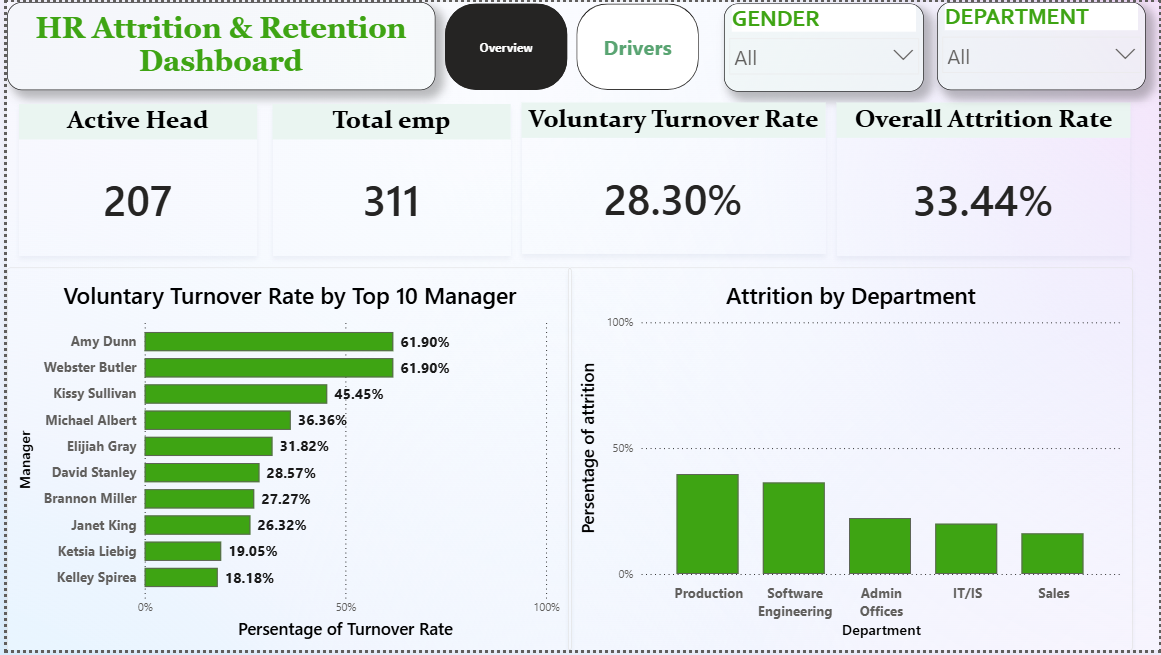

The dashboard page shown, as its layout file describes it:
{"tool":"powerbi","page":{"name":"Overview","canvas":[1280,720],"ordinal":0},"visuals":[{"type":"textbox","box":[0,0,476,98],"z":0},{"type":"slicer","fields":{"Values":["HR.Sex"]},"box":[796,2,222,98],"z":1000},{"type":"cardVisual","title":"Overall Attrition Rate","fields":{"Data":["HR.Overall_Attrition_Rate"]},"box":[922.4,111.1,326.9,170.5],"z":3000},{"type":"cardVisual","title":"Total emp","fields":{"Data":["CountNonNull(HR.EmpID)"]},"box":[295.6,112.6,264.3,168.9],"z":4000},{"type":"cardVisual","title":" Voluntary Turnover Rate","fields":{"Data":["HR.Voluntary_Turnover_Rate"]},"box":[572.1,111.1,337.9,168.9],"z":5000},{"type":"slicer","fields":{"Values":["HR.Department"]},"box":[1034,0,232,98],"z":5001},{"type":"cardVisual","title":"Active Head","fields":{"Data":["HR.Active_Headcount"]},"box":[12.5,112.6,264.3,168.9],"z":5002},{"type":"clusteredColumnChart","title":"Attrition by Department","fields":{"Category":["HR.Department"],"Y":["HR.Overall_Attrition_Rate"]},"box":[623.9,294.4,627.4,425.9],"z":5004},{"type":"clusteredBarChart","title":"Voluntary Turnover Rate by Top 10 Manager","fields":{"Y":["HR.Voluntary_Turnover_Rate"],"Category":["HR.ManagerName"]},"box":[0,294.4,627.4,425.9],"z":5005},{"type":"pageNavigator","box":[486,2,282,96],"z":5006}]}

Visuals, with their boxes in screenshot pixels (x1, y1, x2, y2), scaled from the page's 1280x720 canvas onto the 1161x655 screenshot:
textbox: 0,0,432,89
slicer - HR.Sex: 722,2,923,91
"Overall Attrition Rate" cardVisual: 837,101,1133,256
"Total emp" cardVisual: 268,102,508,256
" Voluntary Turnover Rate" cardVisual: 519,101,825,255
slicer - HR.Department: 938,0,1148,89
"Active Head" cardVisual: 11,102,251,256
"Attrition by Department" clusteredColumnChart: 566,268,1135,654
"Voluntary Turnover Rate by Top 10 Manager" clusteredBarChart: 0,268,569,654
pageNavigator: 441,2,697,89
